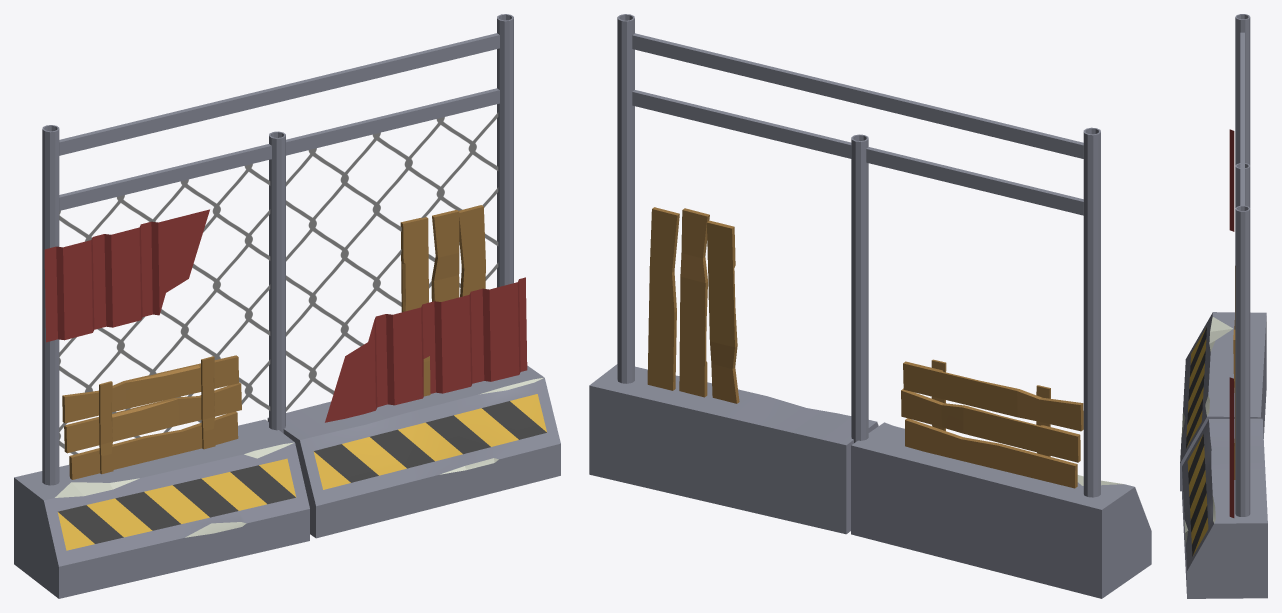
The model's file is BarrierFixed.gltf.
The picture shows the model from 3 angles, left to right: view 1: azimuth 30°, elevation 25°; view 2: azimuth 150°, elevation 25°; view 3: azimuth 270°, elevation 25°; orthographic projection. The views are drawn at different scales.
Parts seen in each view (by area): view 1: Barrier_Fixed; view 2: Barrier_Fixed; view 3: Barrier_Fixed.
Boxes of the visible parts, <box> form: Barrier_Fixed: <box>14,14,560,598</box>; Barrier_Fixed: <box>589,14,1151,598</box>; Barrier_Fixed: <box>1180,14,1267,598</box>.
Bounding box in the file's own units: 3.81 × 3.18 × 0.6666.
Materials: 7 (1 with a texture image).
